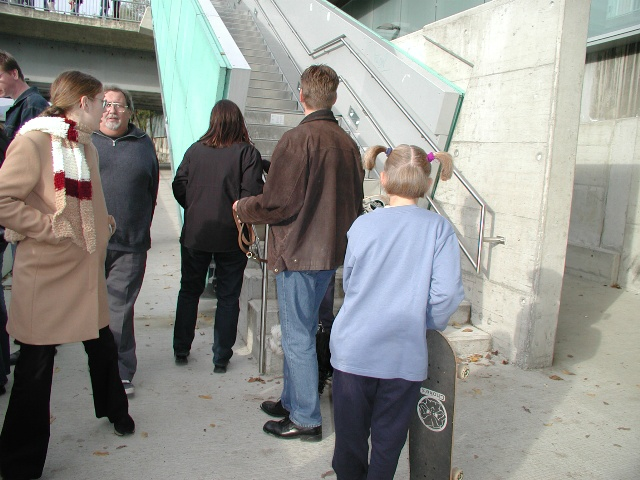person: (237, 62, 364, 439), (167, 101, 263, 373)
